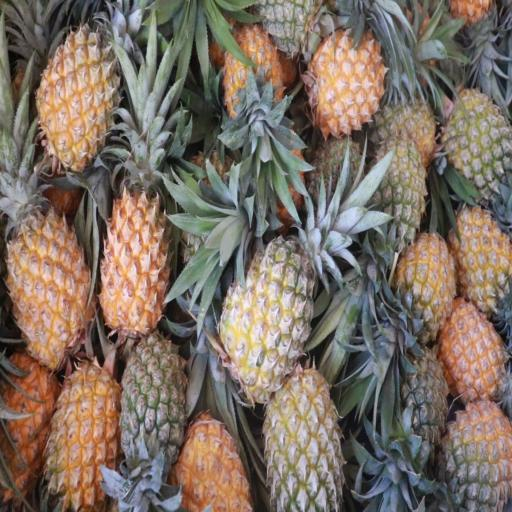------------------------------: (222, 244, 311, 395), (265, 366, 339, 512)
Pineapple - v8 v1: (8, 192, 90, 358), (48, 358, 120, 507), (39, 31, 116, 165), (102, 183, 170, 332), (0, 355, 53, 503), (311, 30, 388, 129), (443, 302, 508, 404), (454, 204, 512, 314), (179, 420, 248, 512), (398, 232, 452, 342), (221, 26, 282, 122)
